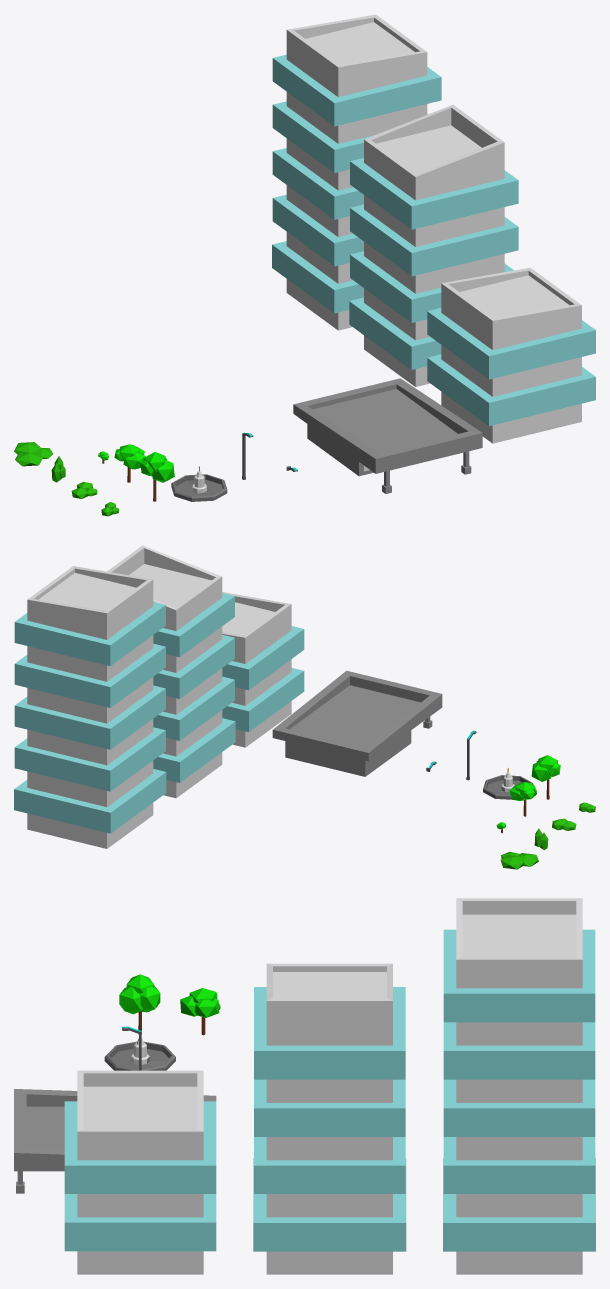
File: dome1.fbx
3 views of the same model, one above another, from view 1: azimuth 30°, elevation 25°; view 2: azimuth 150°, elevation 25°; view 3: azimuth 270°, elevation 25° (orthographic). The views are drawn at different scales.
Parts seen in each view (by area): view 1: House_Distance_1, House_Distance_2, House_distance_3, Gas Station, Fountain, Leaves, Bush_4; view 2: House_Distance_2, House_Distance_1, Gas Station, House_distance_3, Fountain, Leaves, Bush_4; view 3: House_Distance_2, House_Distance_1, House_distance_3, Gas Station, Fountain, Leaves, Leaves.001.
Part boxes in pixels (x1,y1,x2,y2): House_Distance_1: (349,105,518,386); House_Distance_2: (272,14,441,330); House_distance_3: (427,267,595,443); Gas Station: (293,378,482,493); Fountain: (171,466,227,501); Leaves: (140,452,174,482); Bush_4: (14,442,53,466); House_Distance_2: (14,566,166,848); House_Distance_1: (107,545,235,798); Gas Station: (272,670,442,776); House_distance_3: (222,592,304,747); Fountain: (483,768,533,799); Leaves: (531,755,560,781); Bush_4: (500,851,538,869); House_Distance_2: (443,898,595,1274); House_Distance_1: (253,963,406,1274); House_distance_3: (64,1070,216,1274); Gas Station: (14,1089,216,1193); Fountain: (104,1038,175,1070); Leaves: (119,974,160,1014); Leaves.001: (180,988,219,1017).
Bounding box in the file's own units: 10626 × 5811 × 9210.
